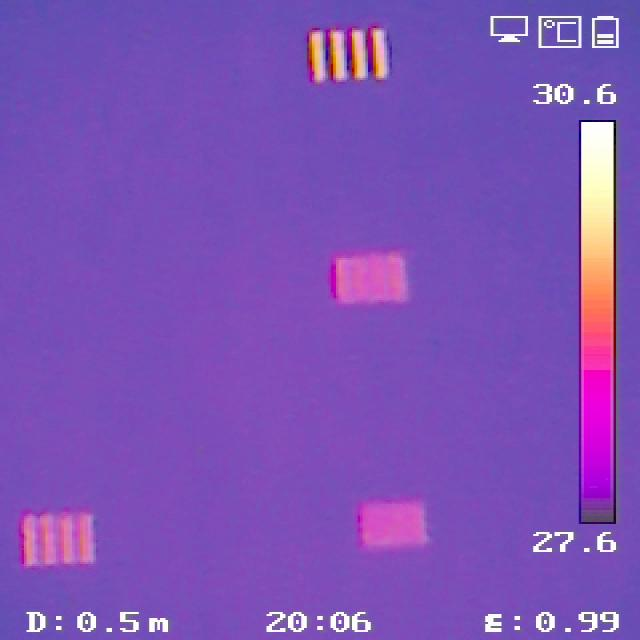Distinguishable 4-bar target: (304, 27, 391, 84), (20, 511, 99, 568)
Indistinguishable 4-bar target: (364, 504, 425, 549)
threshold 4-bar target: (330, 253, 406, 302)
